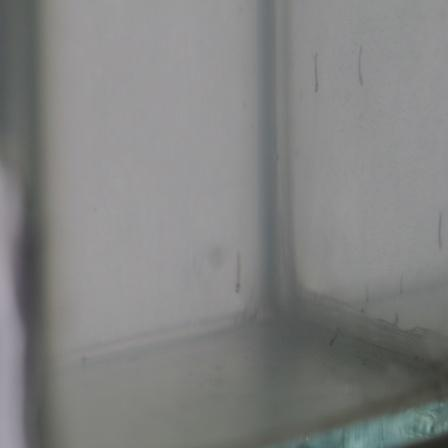Jentik-Nyamuk: (229, 248, 247, 295), (305, 48, 323, 95)
